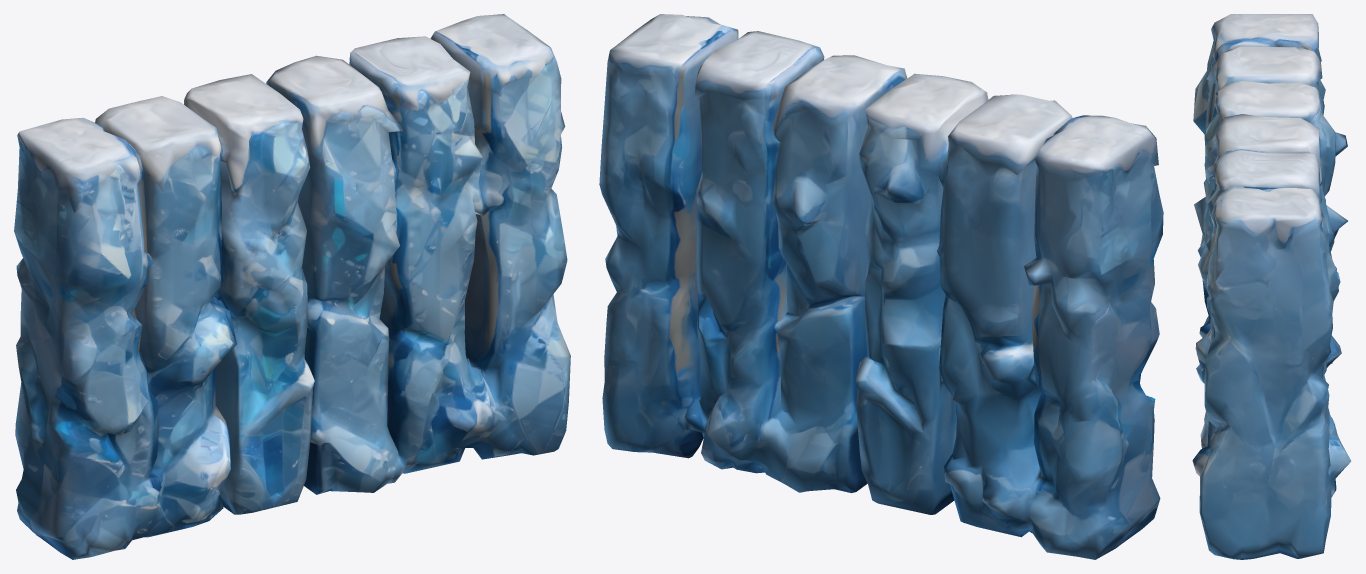
The model's file is IceWall.obj.
3 views of the same model, side by side, from view 1: azimuth 30°, elevation 25°; view 2: azimuth 150°, elevation 25°; view 3: azimuth 270°, elevation 25° (orthographic). The views are drawn at different scales.
Visible parts, largest first — view 1: tripo_node_fcd6e961-b191-4c2a-9e28-19af7cf75981; view 2: tripo_node_fcd6e961-b191-4c2a-9e28-19af7cf75981; view 3: tripo_node_fcd6e961-b191-4c2a-9e28-19af7cf75981.
Boxes of the visible parts, x1,y1,x2,y2 form: tripo_node_fcd6e961-b191-4c2a-9e28-19af7cf75981: [14, 14, 570, 559]; tripo_node_fcd6e961-b191-4c2a-9e28-19af7cf75981: [599, 14, 1163, 559]; tripo_node_fcd6e961-b191-4c2a-9e28-19af7cf75981: [1192, 14, 1351, 559].
Bounding box in the file's own units: 1 × 0.7719 × 0.319.
Materials: 1 (1 with a texture image).
